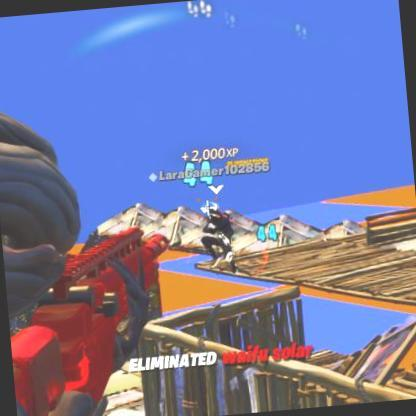person: (200, 204, 232, 262)
